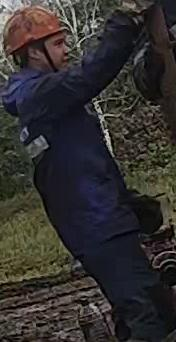gloves: (111, 0, 156, 36)
helmet: (2, 5, 68, 54)
vest: (0, 70, 139, 233)
